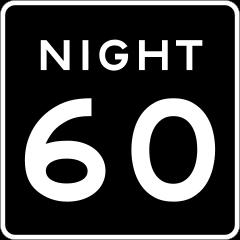Speed Limit -60-: (12, 79, 221, 220)
